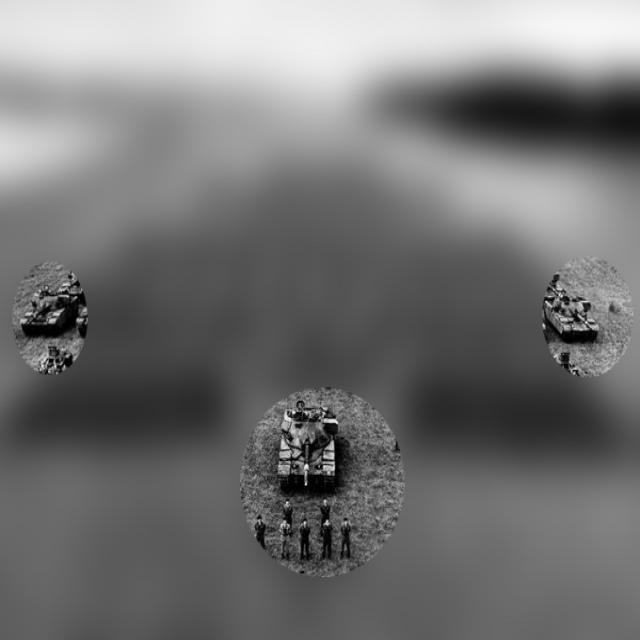tank: (276, 399, 344, 496), (542, 266, 602, 349), (19, 278, 87, 346)
